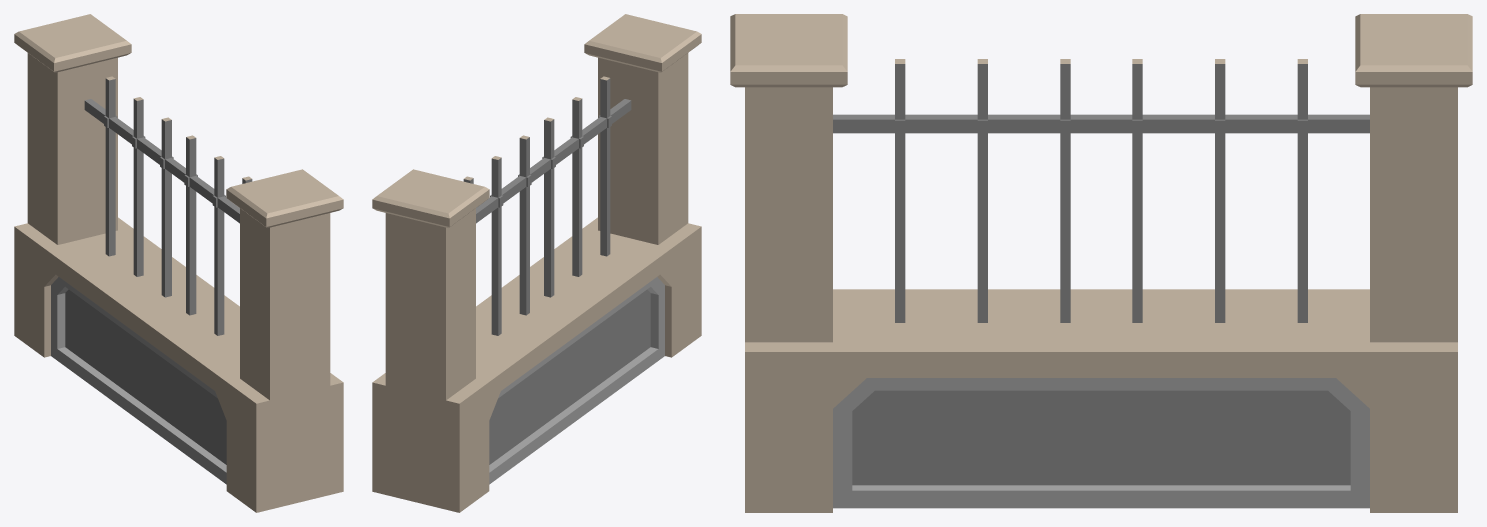
The model's file is Stone Fence 1.fbx.
3 renders of one model, left to right at view 1: azimuth 30°, elevation 25°; view 2: azimuth 150°, elevation 25°; view 3: azimuth 270°, elevation 25°, orthographic. The views are drawn at different scales.
Parts seen in each view (by area): view 1: Stone Fence 1; view 2: Stone Fence 1; view 3: Stone Fence 1.
Boxes of the visible parts, x1,y1,x2,y2 form: Stone Fence 1: [14, 14, 343, 512]; Stone Fence 1: [372, 14, 701, 512]; Stone Fence 1: [730, 14, 1472, 512].
Size of the model in its own units: 0.6895 by 3.45 by 2.27.
